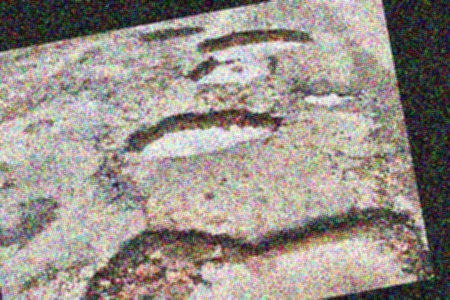pothole: (58, 176, 434, 300), (119, 91, 290, 166), (180, 16, 318, 92), (135, 21, 207, 47), (301, 82, 359, 110)
